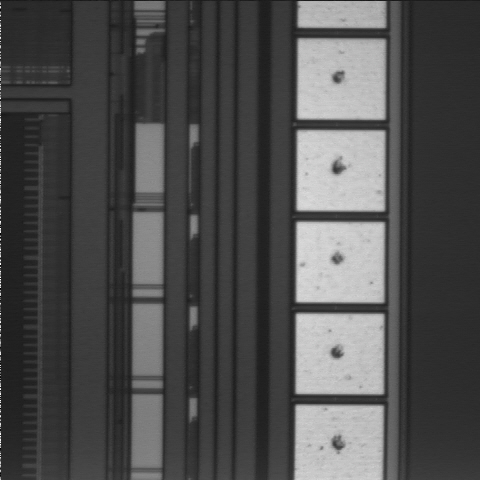pad: (297, 131, 384, 211), (297, 222, 384, 302), (296, 314, 383, 394), (298, 40, 384, 119)
